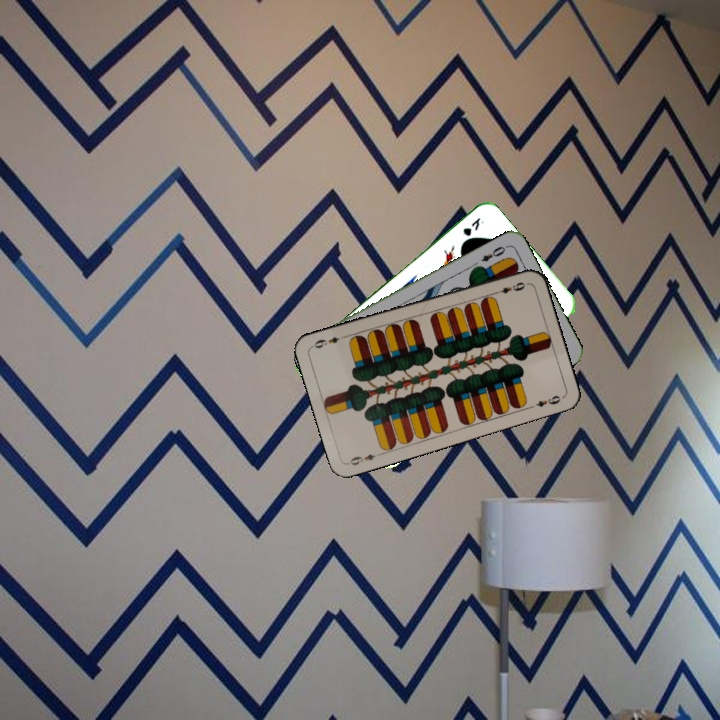E9: (490, 278, 530, 297), (345, 449, 384, 468)
EO: (477, 241, 510, 264)
GK: (459, 213, 486, 239)
